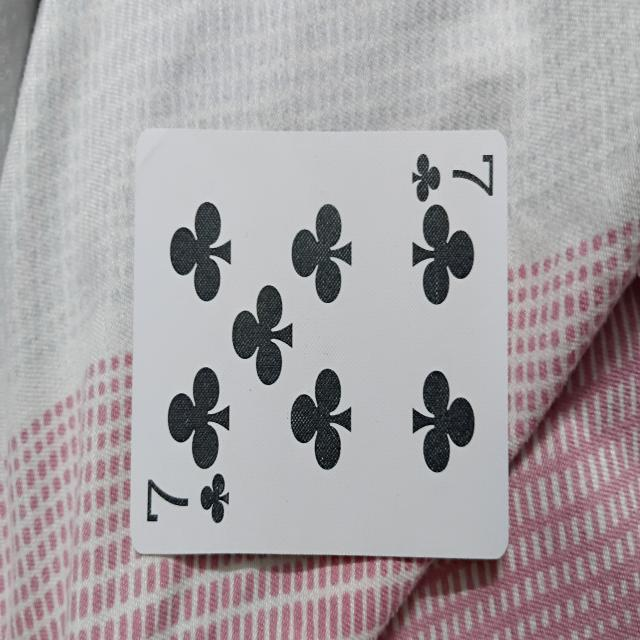7C: (133, 131, 508, 560)
